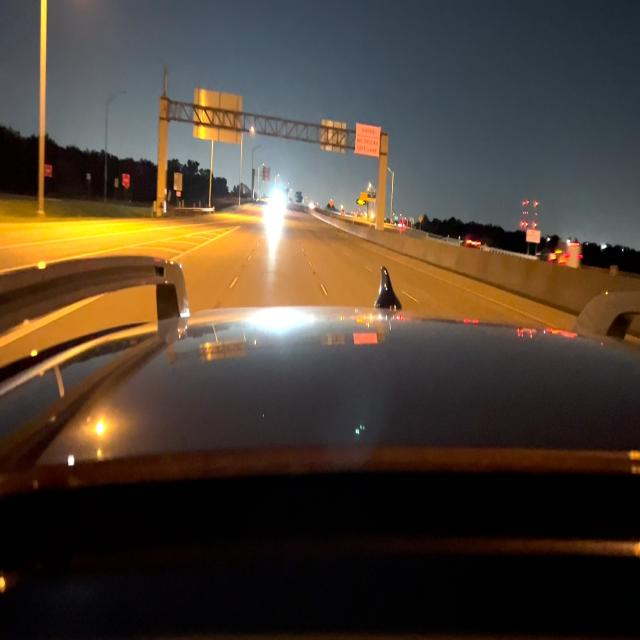back-of-sign: (193, 86, 243, 147), (322, 117, 348, 153)
